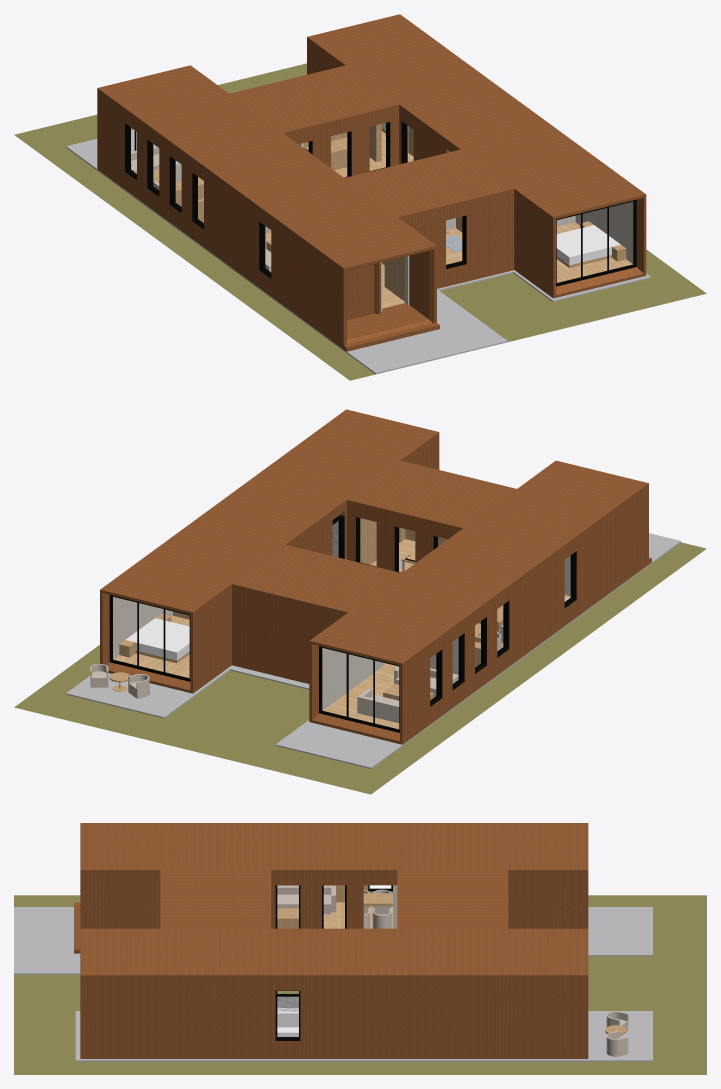
File: 自建住宅200㎡住1~2人（自然风-渲染-贴图）.obj
3 renders of one model, top to bottom at view 1: azimuth 30°, elevation 25°; view 2: azimuth 150°, elevation 25°; view 3: azimuth 270°, elevation 25°, orthographic. The views are drawn at different scales.
Visible parts, largest first — view 1: Mesh154 Group174 Group1 Model, Mesh120 Group137 Group1 Model, Mesh108 Group122 Group121 Group1 Model, Mesh145 Group164 Group1 Model, Mesh135 Group154 Group1 Model, Mesh151 Group171 Group1 Model, Mesh136 Group155 Group1 Model, Mesh150 Group170 Group1 Model, Mesh121 Group138 Group1 Model, Mesh133 Group152 Group1 Model, Mesh134 Group153 Group1 Model, Mesh124 Group142 Group141 Group1 Model (+22 smaller); view 2: Mesh154 Group174 Group1 Model, Mesh124 Group142 Group141 Group1 Model, Mesh112 Group128 Group127 Group1 Model, Mesh145 Group164 Group1 Model, Mesh128 Group147 Group1 Model, Mesh129 Group148 Group1 Model, Mesh144 Group163 Group1 Model, Mesh118 Group135 Group1 Model, Mesh123 Group140 Group1 Model, Mesh121 Group138 Group1 Model, Mesh135 Group154 Group1 Model, Mesh134 Group153 Group1 Model (+22 smaller); view 3: Mesh154 Group174 Group1 Model, Mesh145 Group164 Group1 Model, Mesh117 Group134 Group1 Model, Mesh150 Group170 Group1 Model, Mesh108 Group122 Group121 Group1 Model, Mesh112 Group128 Group127 Group1 Model, Mesh116 Group133 Group1 Model, Mesh123 Group140 Group1 Model, Mesh140 Group159 Group1 Model, Mesh141 Group160 Group1 Model, Mesh142 Group161 Group1 Model, Mesh153 Group173 Group1 Model (+23 smaller).
Boxes of the visible parts, <box> form: Mesh154 Group174 Group1 Model: <box>14,63,706,380</box>; Mesh120 Group137 Group1 Model: <box>321,229,436,347</box>; Mesh108 Group122 Group121 Group1 Model: <box>531,178,646,298</box>; Mesh145 Group164 Group1 Model: <box>66,129,651,374</box>; Mesh135 Group154 Group1 Model: <box>422,149,514,279</box>; Mesh151 Group171 Group1 Model: <box>299,213,413,332</box>; Mesh136 Group155 Group1 Model: <box>383,159,475,288</box>; Mesh150 Group170 Group1 Model: <box>509,162,623,281</box>; Mesh121 Group138 Group1 Model: <box>276,196,391,316</box>; Mesh133 Group152 Group1 Model: <box>231,163,346,283</box>; Mesh134 Group153 Group1 Model: <box>209,147,324,267</box>; Mesh124 Group142 Group141 Group1 Model: <box>97,65,212,185</box>; Mesh154 Group174 Group1 Model: <box>14,542,706,794</box>; Mesh124 Group142 Group141 Group1 Model: <box>309,624,424,744</box>; Mesh112 Group128 Group127 Group1 Model: <box>100,573,215,693</box>; Mesh145 Group164 Group1 Model: <box>66,533,680,768</box>; Mesh128 Group147 Group1 Model: <box>270,554,362,683</box>; Mesh129 Group148 Group1 Model: <box>232,545,323,674</box>; Mesh144 Group163 Group1 Model: <box>332,608,447,727</box>; Mesh118 Group135 Group1 Model: <box>355,592,469,711</box>; Mesh123 Group140 Group1 Model: <box>122,557,237,676</box>; Mesh121 Group138 Group1 Model: <box>489,493,604,613</box>; Mesh135 Group154 Group1 Model: <box>347,460,438,572</box>; Mesh134 Group153 Group1 Model: <box>422,542,536,662</box>; Mesh154 Group174 Group1 Model: <box>14,895,706,1074</box>; Mesh145 Group164 Group1 Model: <box>14,907,652,1061</box>; Mesh117 Group134 Group1 Model: <box>357,928,403,1058</box>; Mesh150 Group170 Group1 Model: <box>126,928,172,1058</box>; Mesh108 Group122 Group121 Group1 Model: <box>80,928,126,1058</box>; Mesh112 Group128 Group127 Group1 Model: <box>542,928,588,1058</box>; Mesh116 Group133 Group1 Model: <box>403,928,449,1058</box>; Mesh123 Group140 Group1 Model: <box>496,928,542,1058</box>; Mesh140 Group159 Group1 Model: <box>218,928,264,1058</box>; Mesh141 Group160 Group1 Model: <box>311,928,357,1058</box>; Mesh142 Group161 Group1 Model: <box>172,928,218,1058</box>; Mesh153 Group173 Group1 Model: <box>449,928,495,1058</box>.
Bounding box in the file's own units: 13800 × 3050 × 22500.
Materials: 13 (5 with a texture image).
